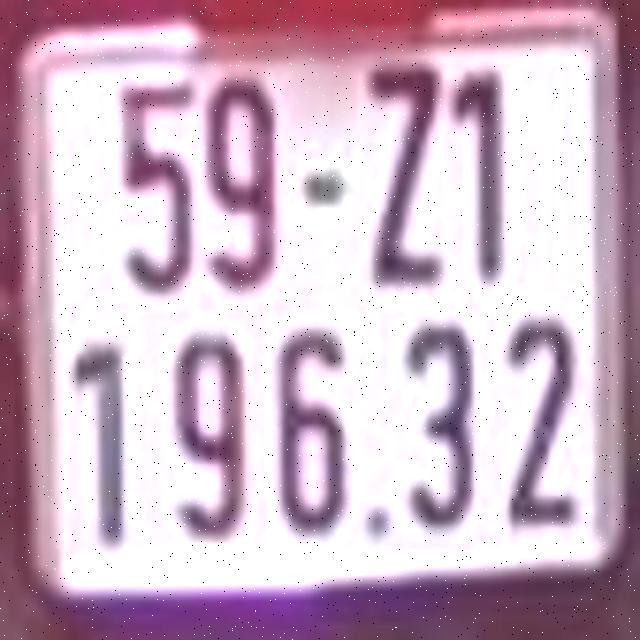1: (451, 63, 517, 283), (67, 335, 135, 546)
2: (504, 313, 580, 526)
3: (400, 315, 477, 530)
5: (112, 72, 198, 296)
6: (274, 322, 349, 532)
9: (202, 69, 282, 294), (168, 324, 249, 540)
Z: (363, 55, 449, 289)
